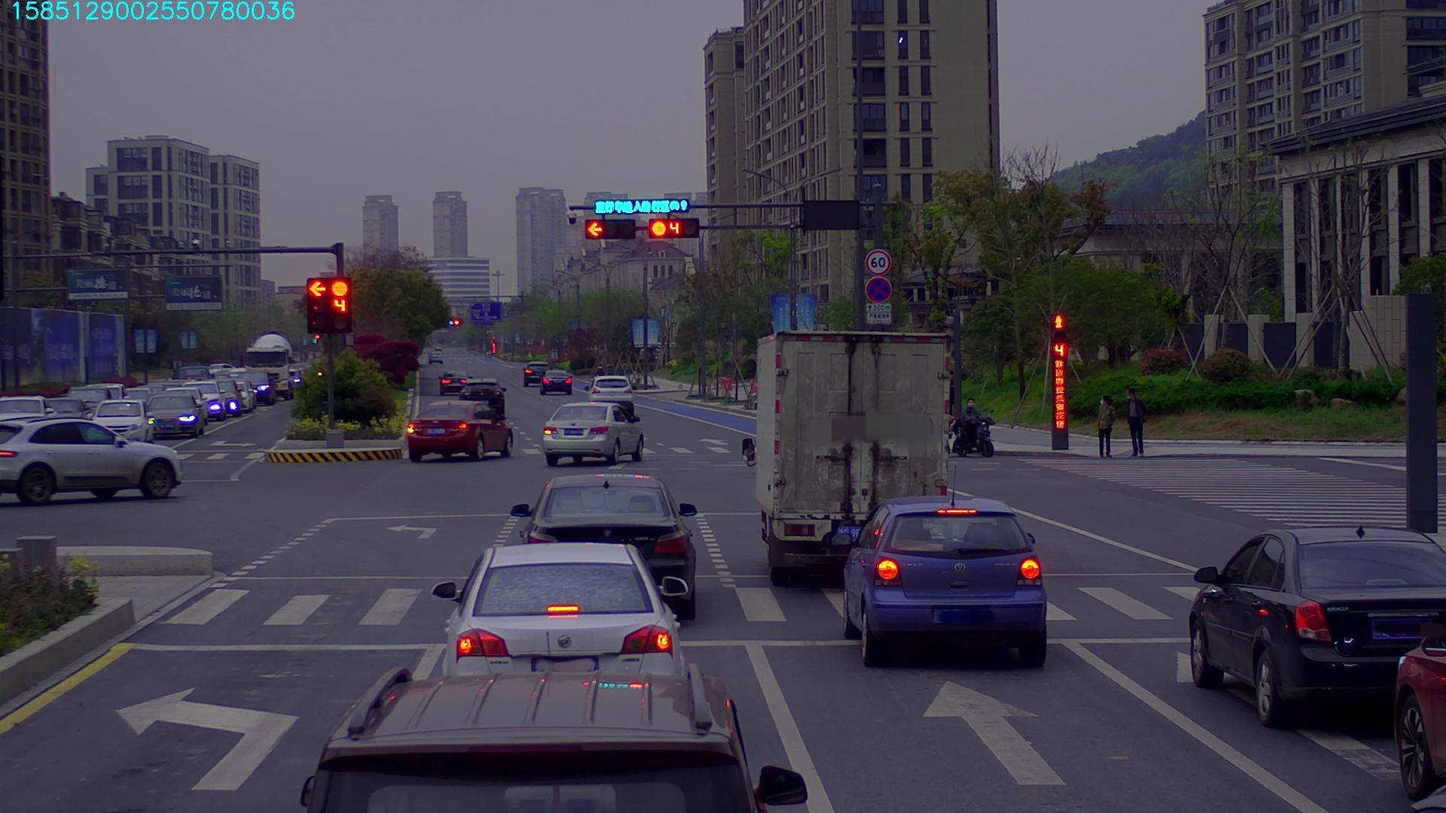red: (651, 218, 700, 242), (584, 215, 638, 233)
wait_on: (598, 193, 695, 218)
